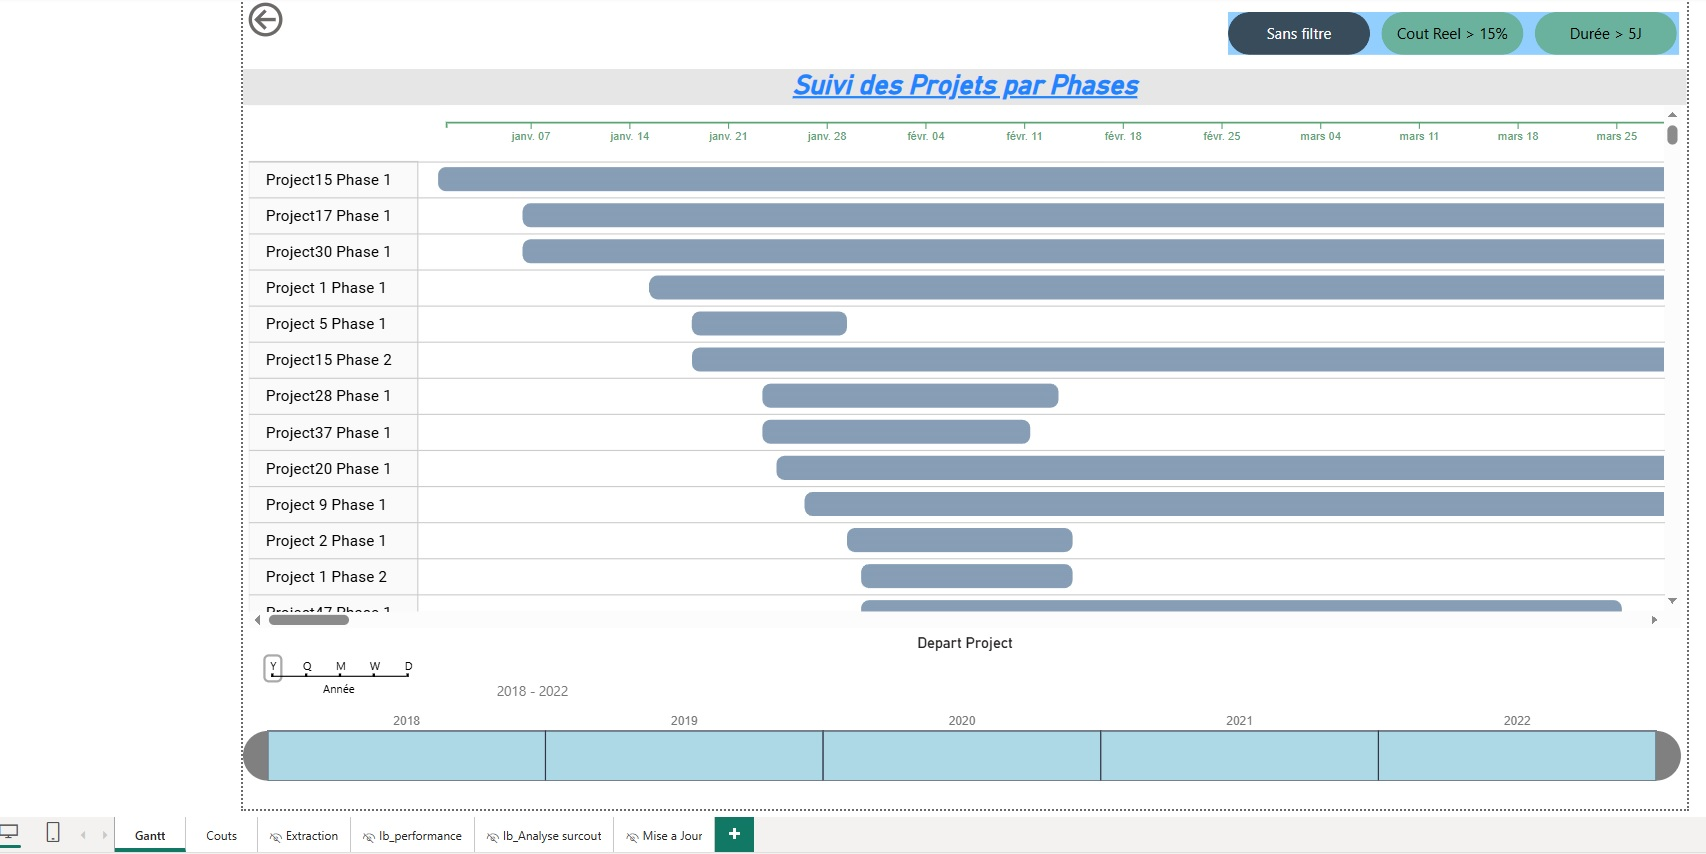

What the dashboard file says about the page in this screenshot:
{"tool":"powerbi","page":{"name":"Gantt","canvas":[1280,720],"ordinal":0},"visuals":[{"type":"Gantt1448688115699","title":"Suivi des Projets par Phases","fields":{"StartDate":["Projects_plans.Start Date"],"Task":["Projects_plans.Phase_Project"],"Duration":["Sum(Projects_plans.Planned_Duration)"]},"box":[0,63.8,1280.4,501],"z":0},{"type":"actionButton","box":[0,0,100,40],"z":1000},{"type":"Timeline1447991079100","title":"Depart Project","fields":{"Time":["Projects_plans.Start Date"]},"box":[0,564.8,1280.4,155.2],"z":2000},{"type":"bookmarkNavigator","box":[873.4,13.3,399.9,38.1],"z":3000}]}

Visuals, with their boxes on the page's 1280x720 design canvas (x1, y1, x2, y2). These are canvas units, not pixel positions in the 1706x854 screenshot, which may show the page scaled, cropped or inside an application window:
"Suivi des Projets par Phases" Gantt1448688115699: detection(0, 64, 1280, 565)
actionButton: detection(0, 0, 100, 40)
"Depart Project" Timeline1447991079100: detection(0, 565, 1280, 720)
bookmarkNavigator: detection(873, 13, 1273, 51)
